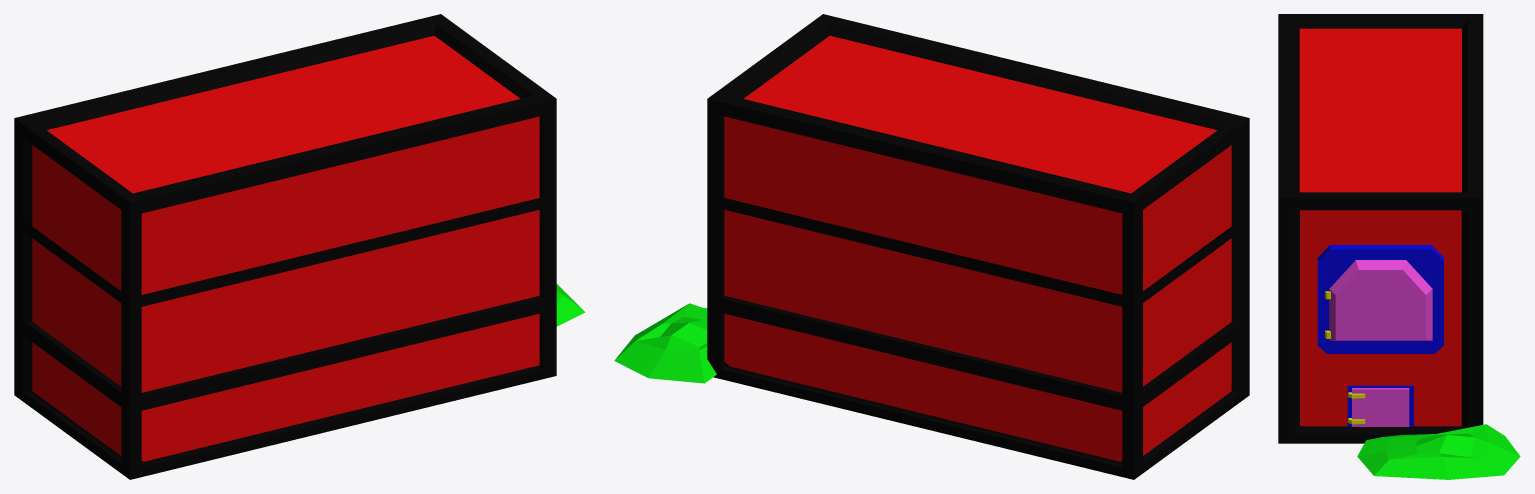
The model's file is Crematorium_Oven.fbx.
The picture shows the model from 3 angles, left to right: view 1: azimuth 30°, elevation 25°; view 2: azimuth 150°, elevation 25°; view 3: azimuth 270°, elevation 25°; orthographic projection. The views are drawn at different scales.
Parts seen in each view (by area): view 1: mesh_Oven; view 2: mesh_Oven; view 3: mesh_Oven, mesh_Oven_Door_01, mesh_Oven_Door_02.
Boxes of the visible parts, x1,y1,x2,y2 form: mesh_Oven: (14,14,585,479); mesh_Oven: (614,14,1249,479); mesh_Oven: (1278,14,1520,479); mesh_Oven_Door_01: (1325,260,1432,340); mesh_Oven_Door_02: (1348,388,1409,426).
Bounding box in the file's own units: 324 × 165 × 148.
